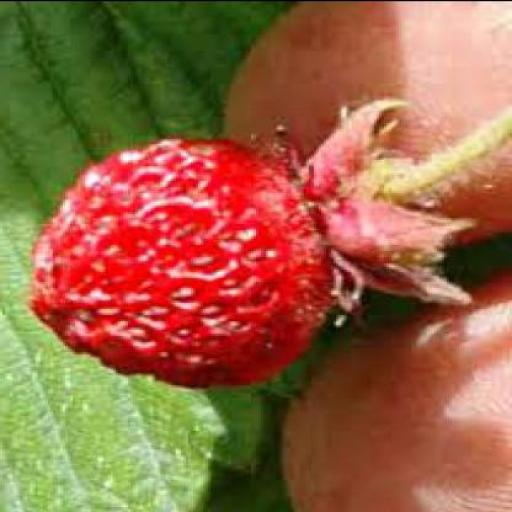biodegradable: (23, 97, 479, 393)
